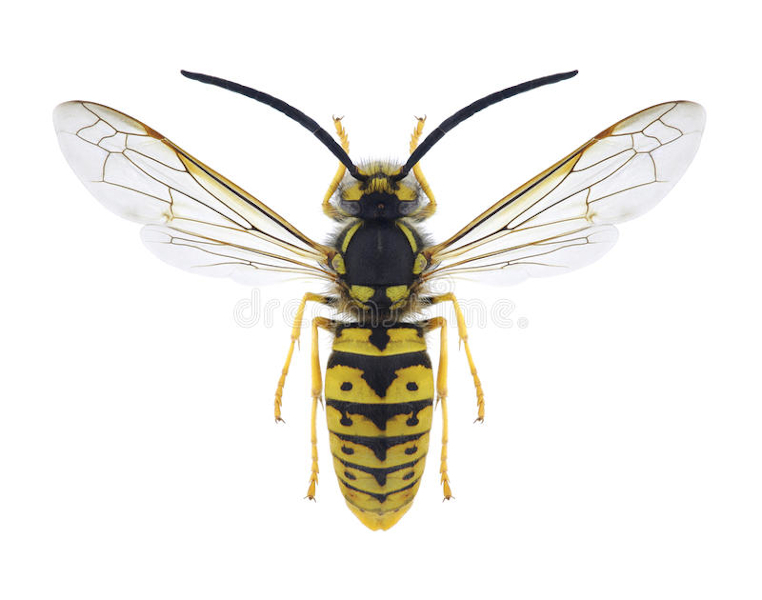chax: (32, 20, 717, 551)
